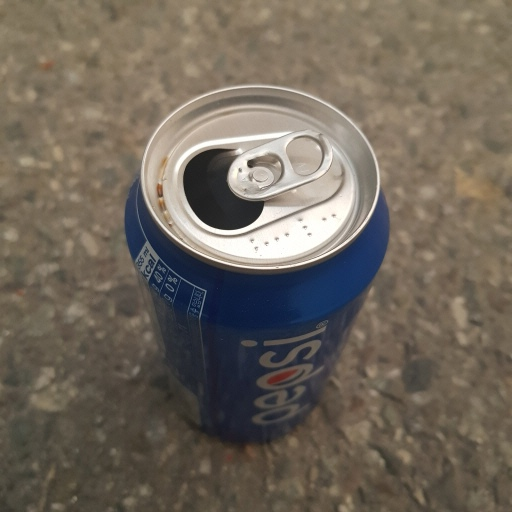Metal_0: (124, 82, 392, 444)
